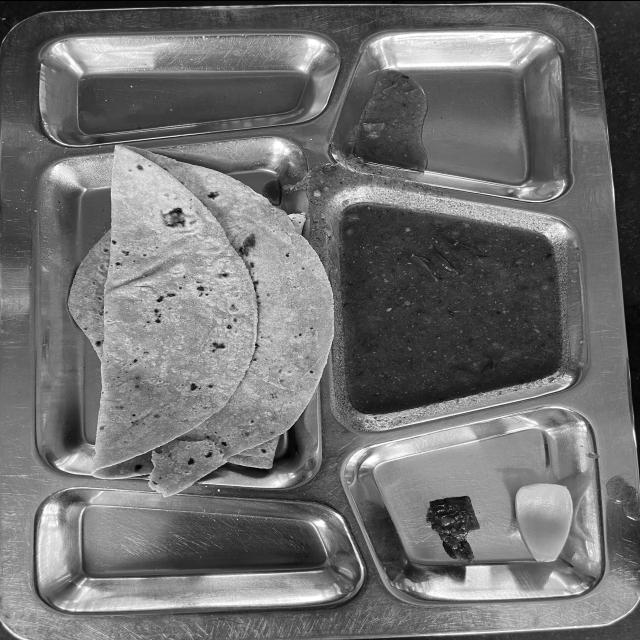20.5- Food Left: (9, 19, 591, 624)
